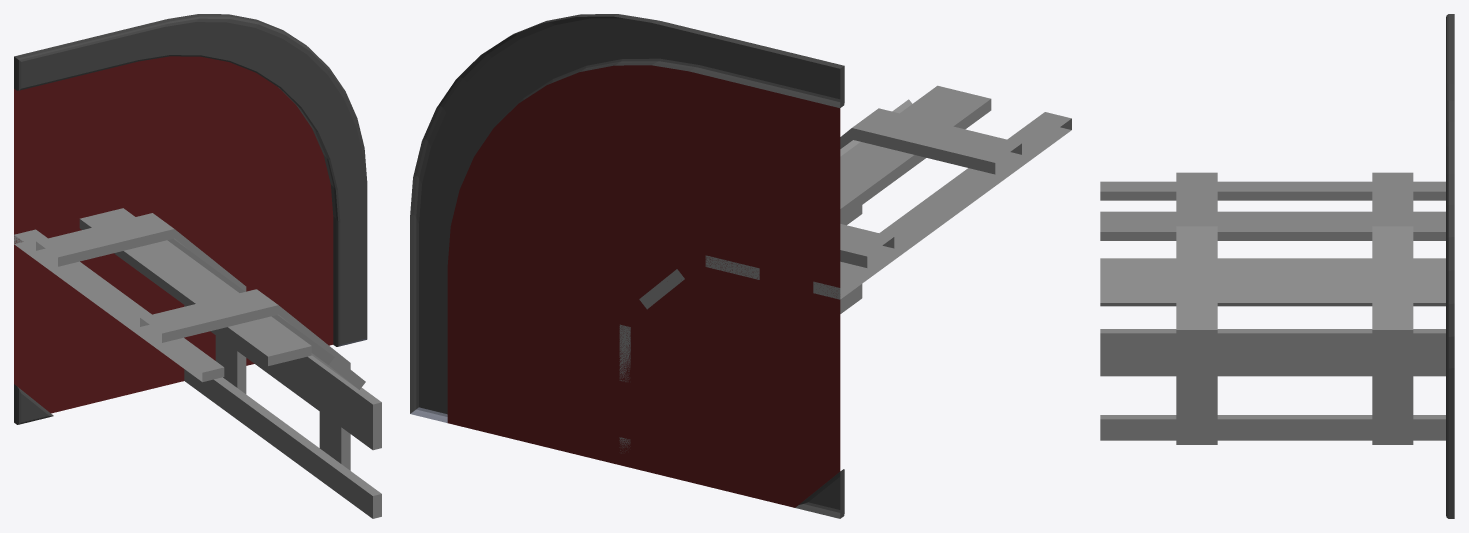
File: Fence90d.fbx
The picture shows the model from 3 angles, left to right: view 1: azimuth 30°, elevation 25°; view 2: azimuth 150°, elevation 25°; view 3: azimuth 270°, elevation 25°; orthographic projection. The views are drawn at different scales.
Parts seen in each view (by area): view 1: Fence; view 2: Fence; view 3: Fence.
Boxes of the visible parts, box(x1,y1,x2,y2) form: Fence: box(14, 14, 381, 518); Fence: box(410, 14, 1071, 518); Fence: box(1100, 14, 1454, 518).
Bounding box in the file's own units: 100 × 100 × 93.3.
